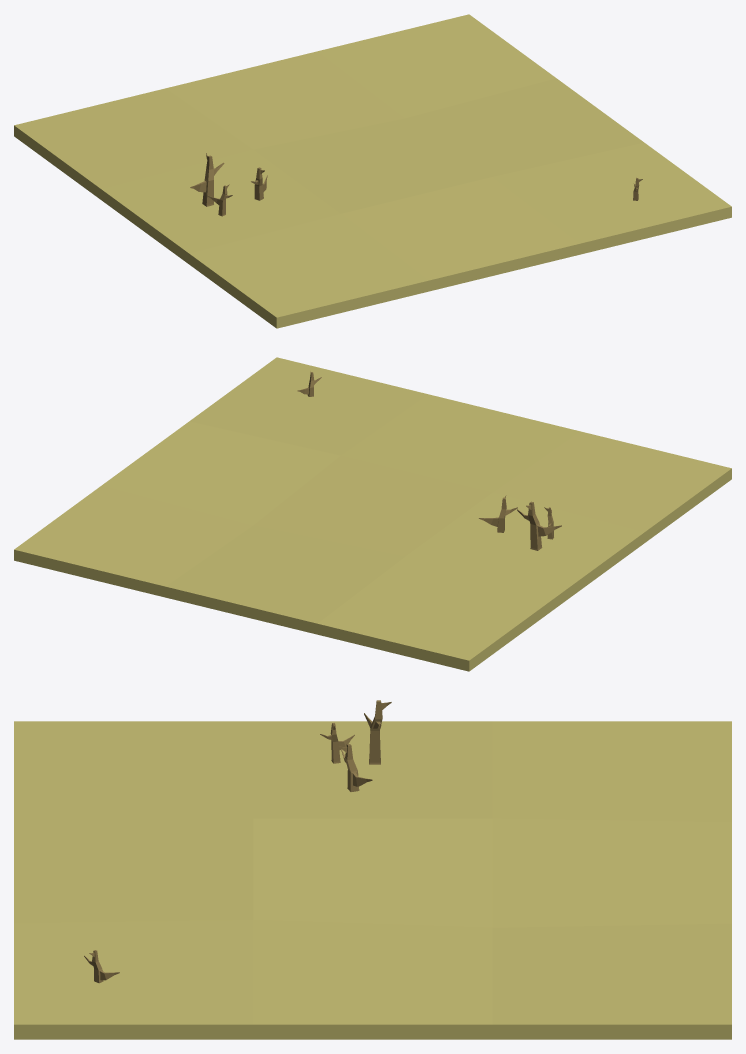
File: Desert I.fbx
3 views of the same model, one above another, from view 1: azimuth 30°, elevation 25°; view 2: azimuth 150°, elevation 25°; view 3: azimuth 270°, elevation 25° (orthographic). The views are drawn at different scales.
Parts seen in each view (by area): view 1: Desert I; view 2: Desert I; view 3: Desert I.
Boxes of the visible parts, x1=… form: Desert I: x1=14, y1=14, x2=731, y2=328; Desert I: x1=14, y1=357, x2=731, y2=671; Desert I: x1=14, y1=700, x2=731, y2=1039.
Size of the model in its own units: 1600 by 196 by 1600.
